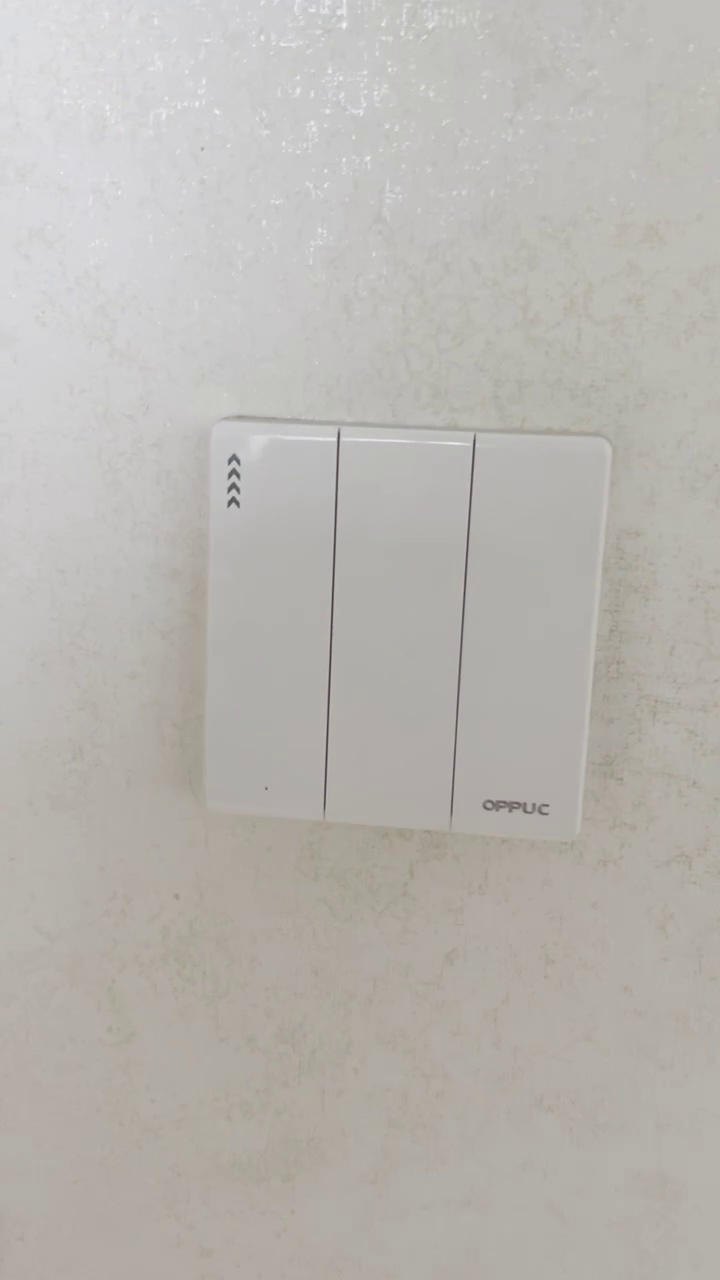button1: (457, 443, 597, 837), (330, 437, 467, 825), (214, 436, 333, 816)
